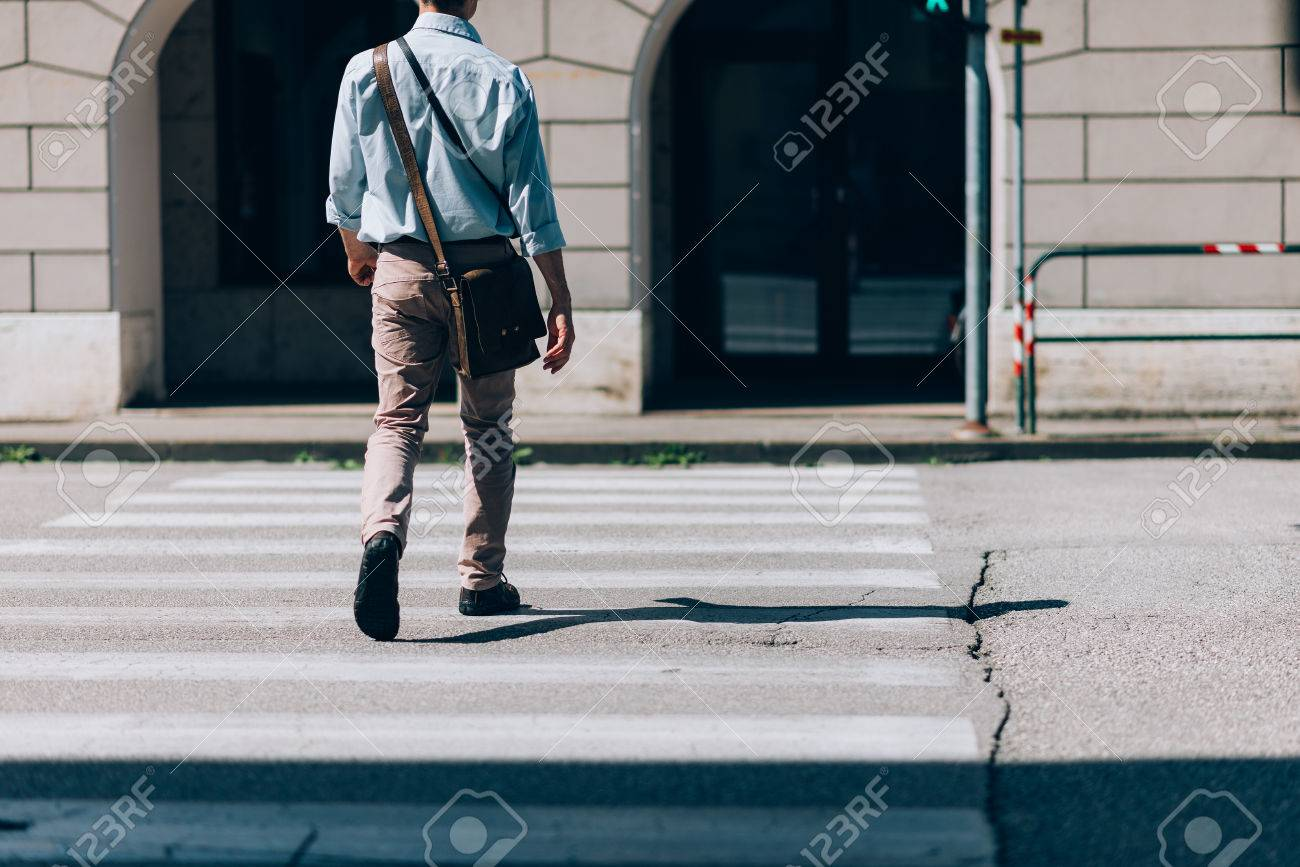Crosswalk: (536, 464, 992, 862)
Person: (329, 3, 591, 638)
